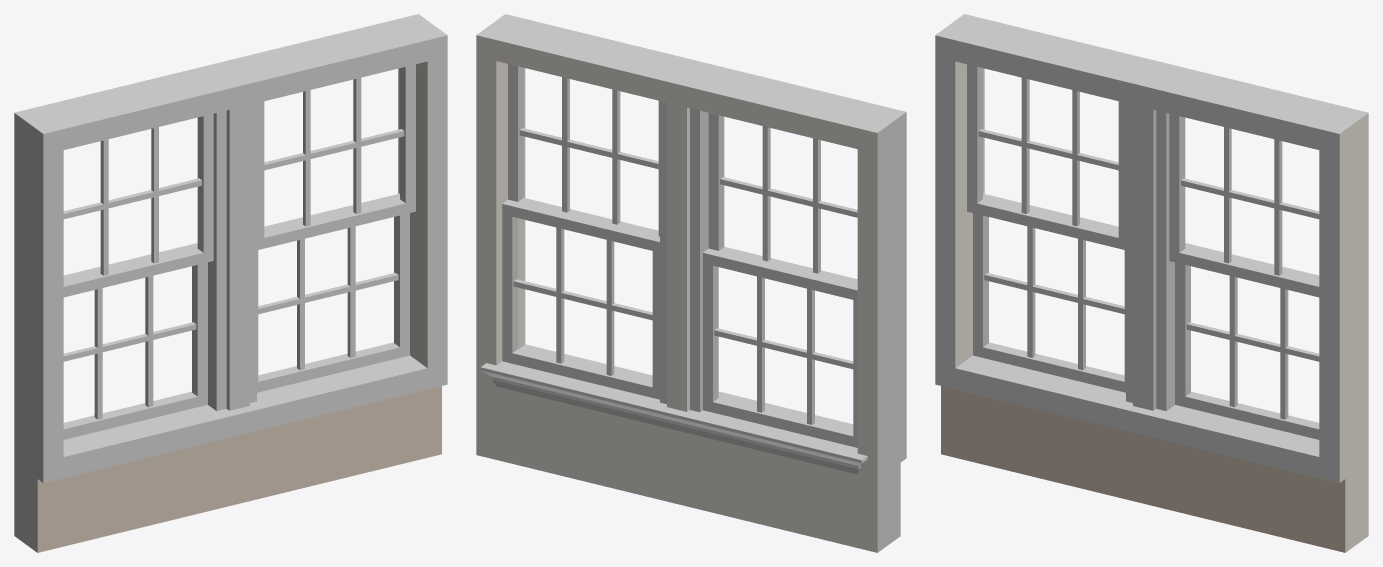
Rendered from Structure_Exterior_Window_Double.fbx.
The picture shows the model from 3 angles, left to right: view 1: azimuth 30°, elevation 25°; view 2: azimuth 150°, elevation 25°; view 3: azimuth 330°, elevation 25°; orthographic projection.
Parts seen in each view (by area): view 1: object5.017, object1.075, object2.040, object4.022, object3.029; view 2: object5.017, object2.040, object4.022, object1.075, object3.029; view 3: object5.017, object3.029, object4.022, object2.040, object1.075.
Boxes of the visible parts, left/top/right/bottom form: object5.017: left=14, top=14, right=447, bottom=552; object1.075: left=257, top=64, right=415, bottom=250; object2.040: left=257, top=193, right=409, bottom=392; object4.022: left=63, top=243, right=207, bottom=439; object3.029: left=63, top=113, right=213, bottom=297; object5.017: left=476, top=14, right=906, bottom=552; object2.040: left=502, top=199, right=659, bottom=399; object4.022: left=703, top=248, right=857, bottom=447; object1.075: left=508, top=64, right=659, bottom=236; object3.029: left=708, top=113, right=857, bottom=284; object5.017: left=935, top=14, right=1368, bottom=552; object3.029: left=967, top=64, right=1125, bottom=250; object4.022: left=973, top=193, right=1125, bottom=392; object2.040: left=1175, top=243, right=1319, bottom=439; object1.075: left=1169, top=113, right=1319, bottom=297.
Bounding box in the file's own units: 200 × 200 × 30.
